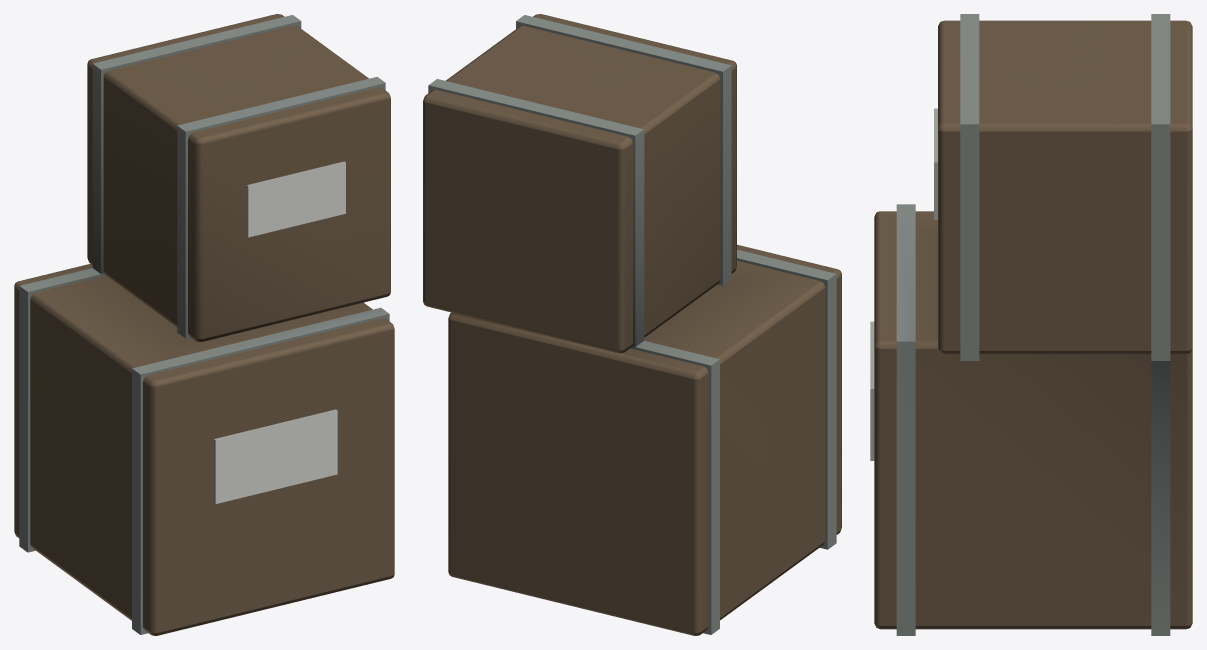
Rendered from crate_stack.glb.
The picture shows the model from 3 angles, left to right: view 1: azimuth 30°, elevation 25°; view 2: azimuth 150°, elevation 25°; view 3: azimuth 270°, elevation 25°; orthographic projection. The views are drawn at different scales.
Visible parts, largest first — view 1: CrateStack; view 2: CrateStack; view 3: CrateStack.
Part boxes in pixels (x1,y1,x2,y2): CrateStack: [14, 14, 394, 635]; CrateStack: [423, 14, 841, 635]; CrateStack: [870, 14, 1192, 635].
Size of the model in its own units: 1.12 by 1.82 by 1.01.
